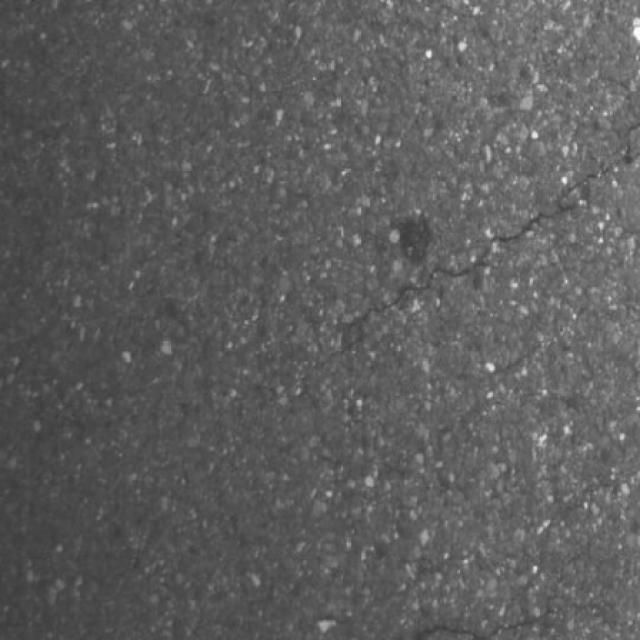Diagonal Crack: (310, 123, 640, 369), (416, 322, 558, 484)
